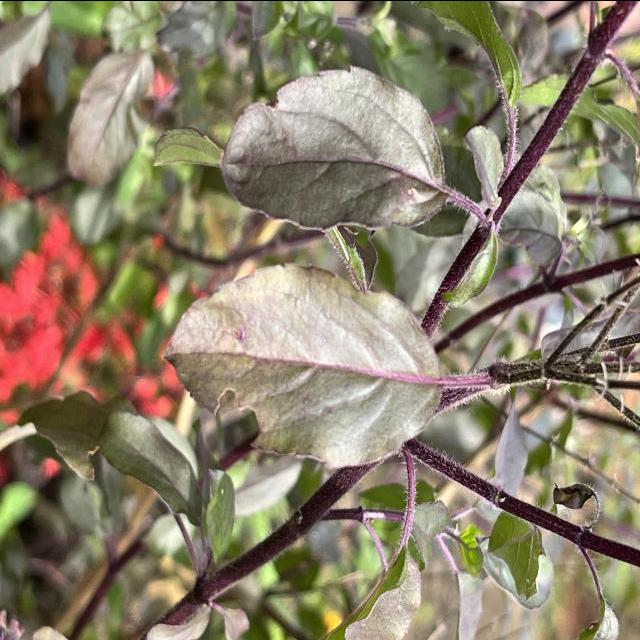Ocimum tenuiflorum: (158, 259, 444, 470), (220, 61, 450, 232)
